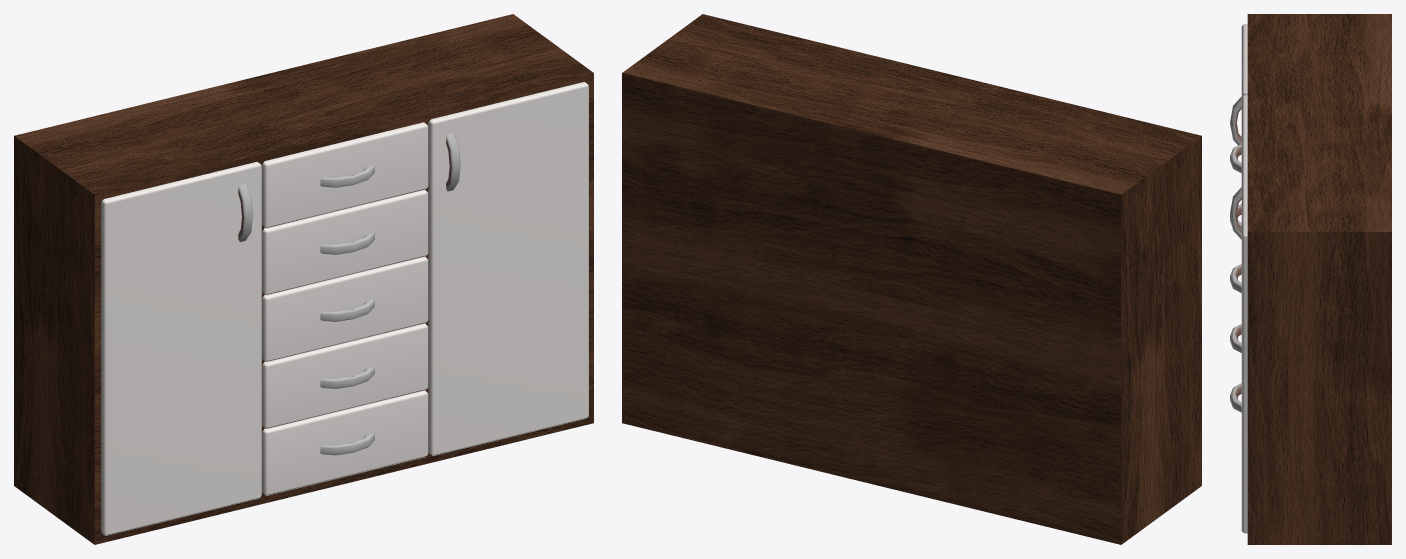
File: dresser_012.fbx
3 renders of one model, left to right at view 1: azimuth 30°, elevation 25°; view 2: azimuth 150°, elevation 25°; view 3: azimuth 270°, elevation 25°, orthographic. The views are drawn at different scales.
Visible parts, largest first — view 1: dresser_012; view 2: dresser_012; view 3: dresser_012.
Boxes of the visible parts, x1,y1,x2,y2 form: dresser_012: [14, 14, 593, 544]; dresser_012: [622, 14, 1201, 544]; dresser_012: [1230, 14, 1391, 544].
Bounding box in the file's own units: 180 × 56.63 × 121.
